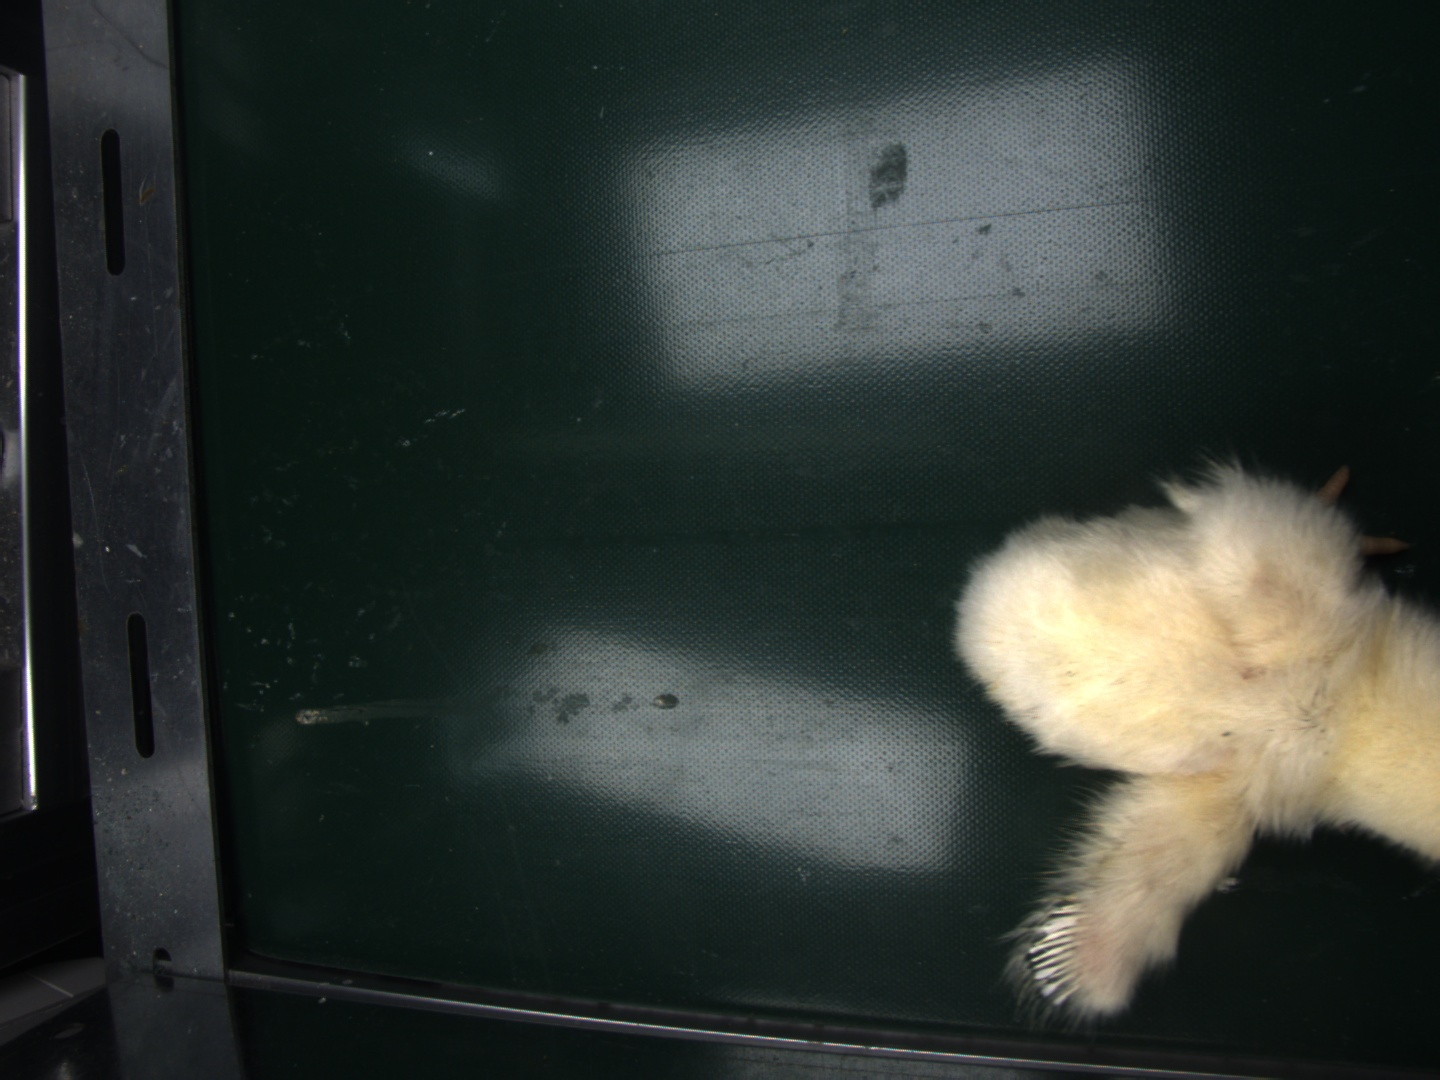male: (1031, 904, 1089, 999)
